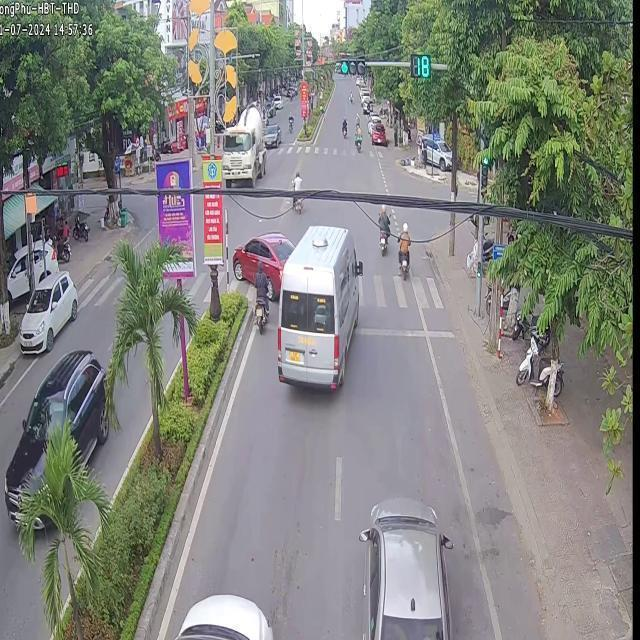car: (3, 349, 107, 522), (277, 225, 360, 387), (357, 496, 450, 638), (18, 269, 77, 347), (230, 231, 293, 298), (174, 594, 270, 637), (220, 102, 264, 187)
green_light: (338, 55, 366, 76), (411, 54, 429, 80)
motobike: (246, 282, 267, 331), (397, 220, 409, 276), (377, 202, 389, 254)
stop_line: (354, 325, 423, 336), (426, 329, 452, 336)
